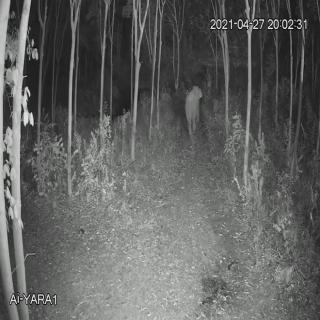Elephant: (182, 78, 206, 141)
